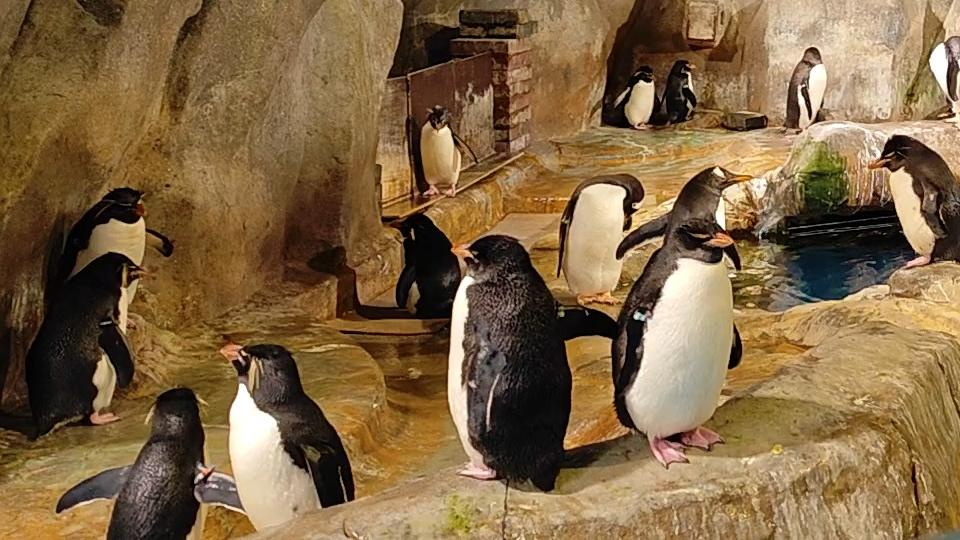Southern Rockhopper Penguin: (440, 227, 620, 493), (603, 209, 759, 475), (47, 378, 249, 540), (207, 336, 365, 535), (24, 249, 150, 436), (53, 183, 179, 298), (860, 127, 960, 271), (379, 210, 461, 319), (404, 101, 480, 198), (607, 64, 666, 133), (656, 55, 703, 131)
